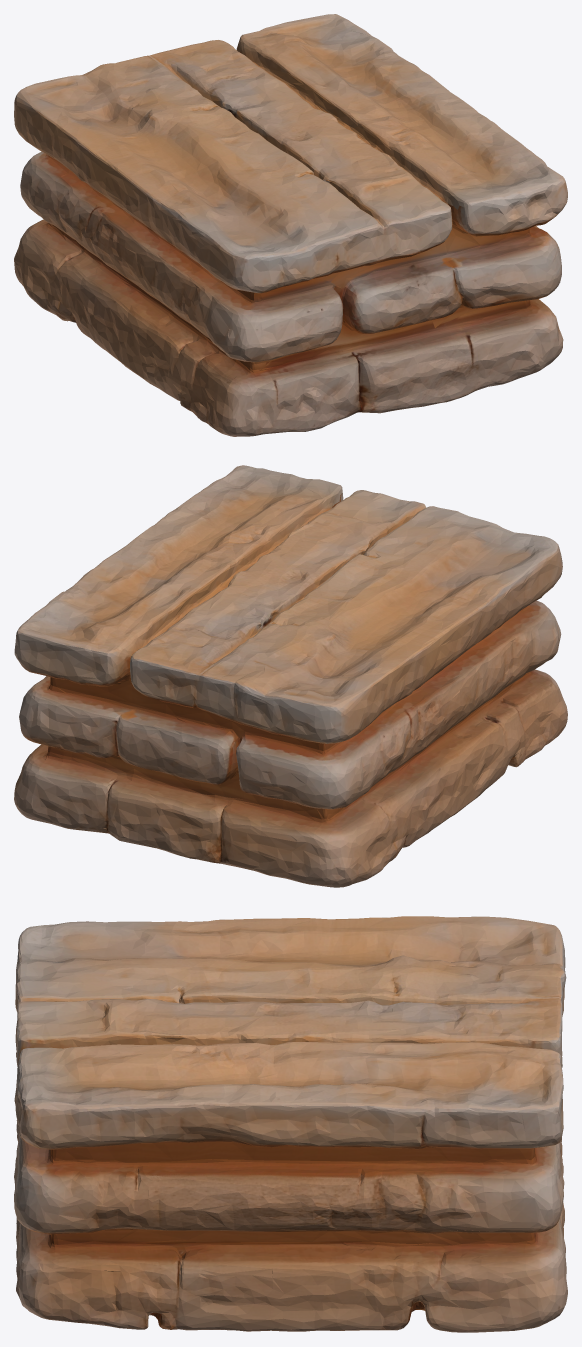
File: weathered-sandstone-wall-cap-optimized.glb
3 renders of one model, top to bottom at view 1: azimuth 30°, elevation 25°; view 2: azimuth 150°, elevation 25°; view 3: azimuth 270°, elevation 25°, orthographic. The views are drawn at different scales.
Visible parts, largest first — view 1: 21767cab-a91f-46c7-9d27-0559a5fdc7d5_texturing.obj; view 2: 21767cab-a91f-46c7-9d27-0559a5fdc7d5_texturing.obj; view 3: 21767cab-a91f-46c7-9d27-0559a5fdc7d5_texturing.obj.
Part boxes in pixels (bbox=[...]): 21767cab-a91f-46c7-9d27-0559a5fdc7d5_texturing.obj: bbox=[14, 14, 567, 436]; 21767cab-a91f-46c7-9d27-0559a5fdc7d5_texturing.obj: bbox=[14, 465, 567, 887]; 21767cab-a91f-46c7-9d27-0559a5fdc7d5_texturing.obj: bbox=[14, 916, 567, 1332].
Bounding box in the file's own units: 2.51 × 1.4 × 3.
1 material, 1 textured.
